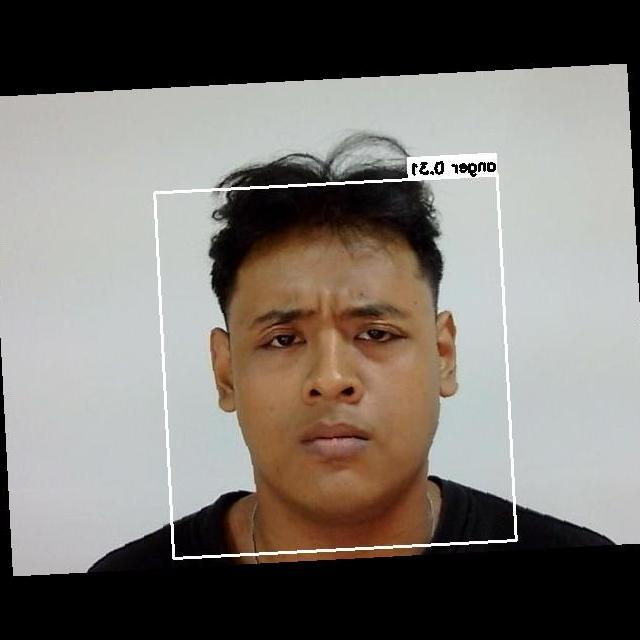Angry: (236, 274, 446, 486)
